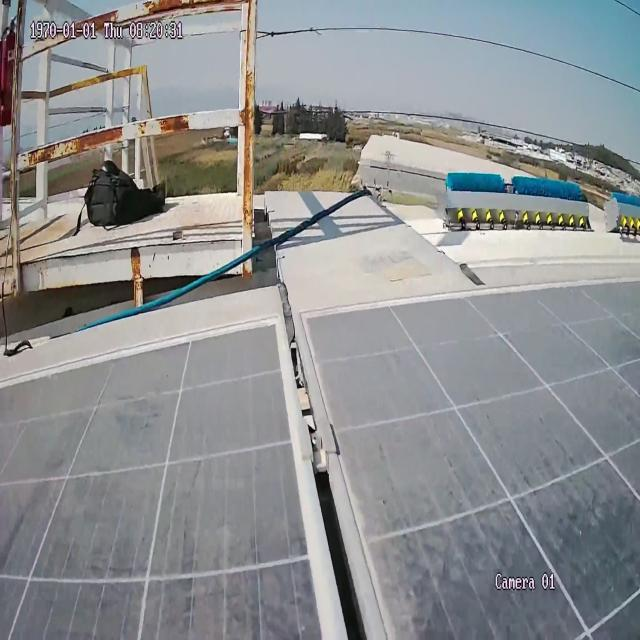interior panel: (213, 285, 451, 640)
outher panel: (0, 0, 640, 304)
